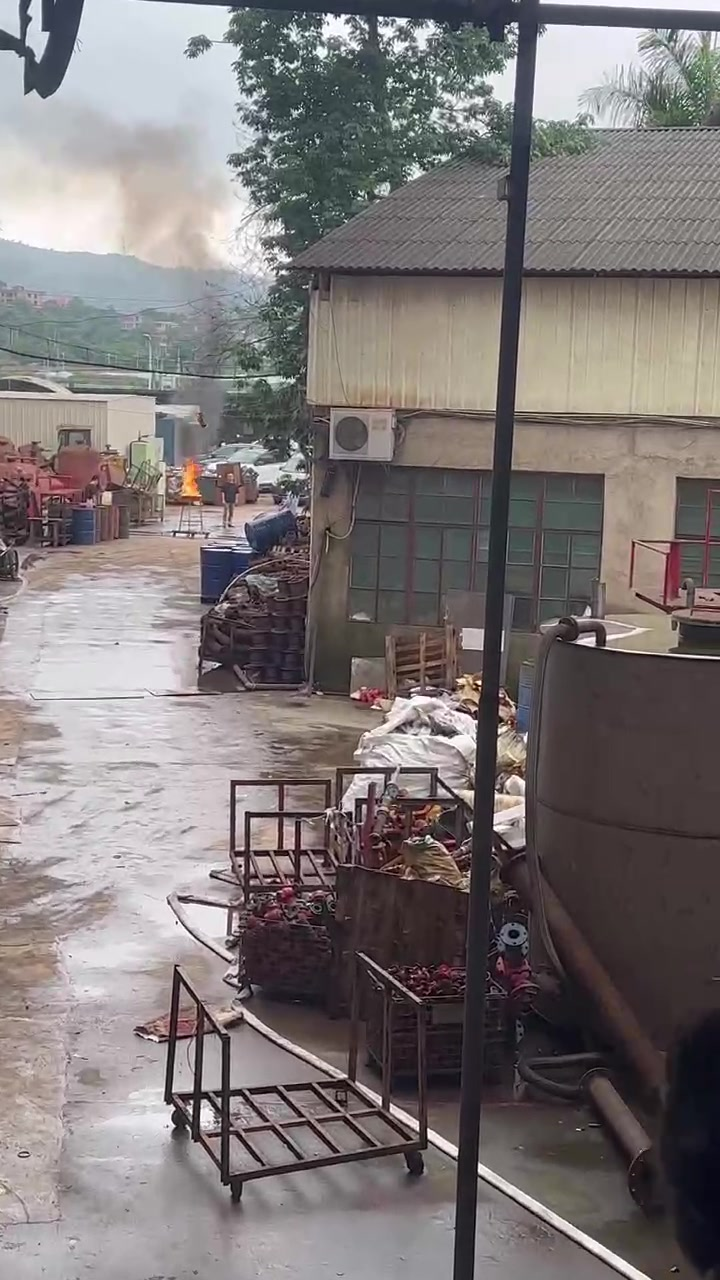fire: (180, 459, 201, 495)
